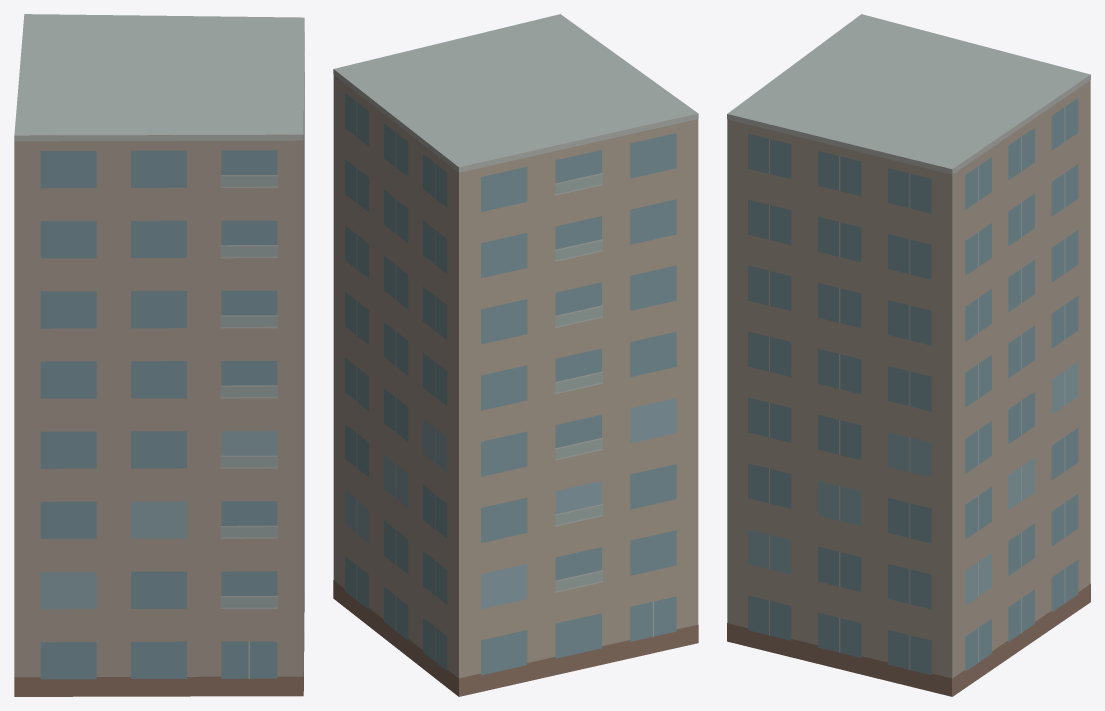
File: survey-upis-32726629.glb
3 views of the same model, side by side, from view 1: azimuth 30°, elevation 25°; view 2: azimuth 150°, elevation 25°; view 3: azimuth 270°, elevation 25° (orthographic). The views are drawn at different scales.
Visible parts, largest first — view 1: survey-upis-32726629.tmp; view 2: survey-upis-32726629.tmp; view 3: survey-upis-32726629.tmp.
Part boxes in pixels (x1,y1,x2,y2): survey-upis-32726629.tmp: (14,14,304,696); survey-upis-32726629.tmp: (333,14,698,696); survey-upis-32726629.tmp: (727,14,1090,696).
Size of the model in its own units: 14.97 by 23.7 by 14.81.
